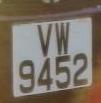2: (72, 50, 92, 92)
4: (36, 55, 56, 94)
5: (53, 53, 74, 93)
9: (16, 54, 38, 98)
V: (34, 20, 55, 61)
W: (54, 19, 73, 58)
